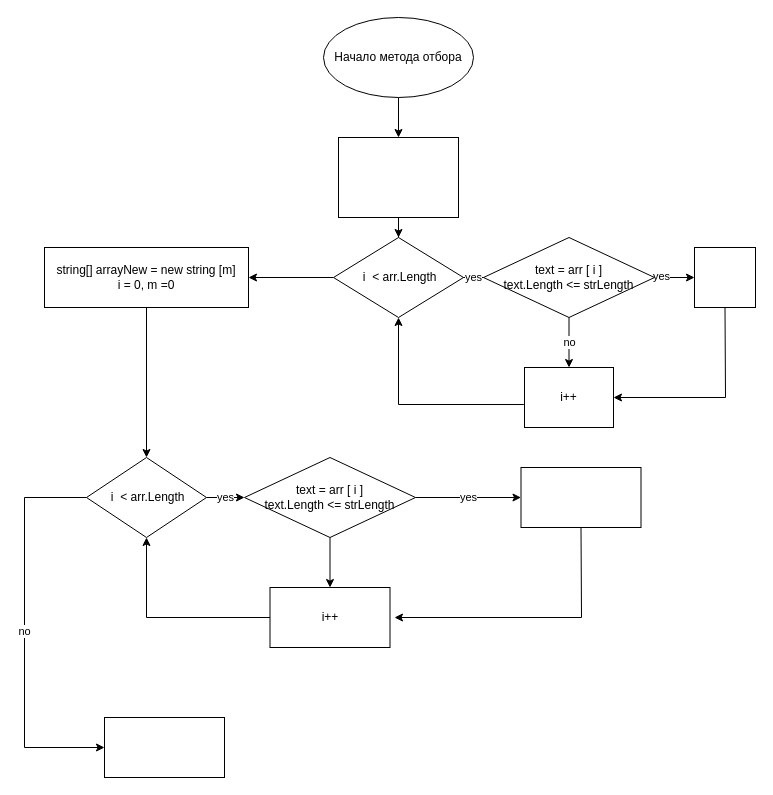
The diagram is 773 pixels wide and 795 high, and some of its shapes have lost their labels. The centre of each missing label's shape, as x and y in pixels:
arr strLength i = 0, m =0 text ="": point 398,177
arrayNew[m] =arr[i] m++: point 580,497
m++: point 725,277
return arrayNew: point 164,747
